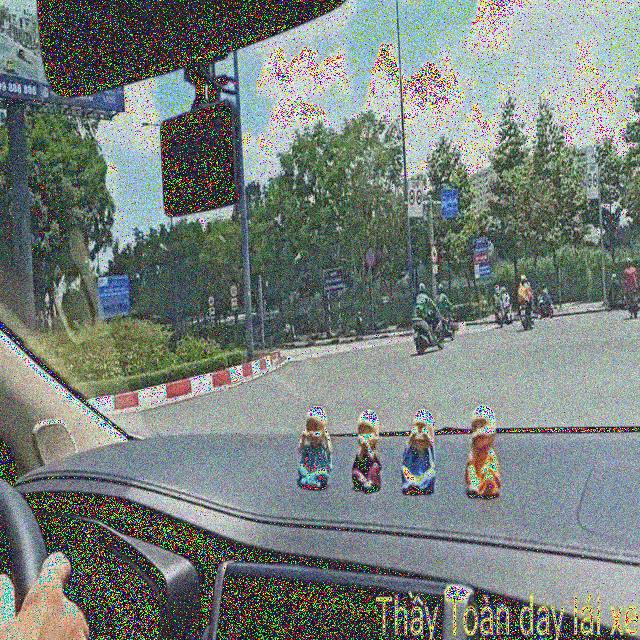Biển phụ: (230, 296, 237, 311), (209, 306, 215, 318), (432, 263, 438, 274)
Cấm các phương tiện hoạt động trong khung giờ cố định: (404, 172, 423, 220), (585, 159, 601, 201)
Cấm dừng - Cấm đỗ: (363, 244, 375, 266)
Cấm xe máy: (426, 240, 440, 261)
Giới hạn tốc độ: 60Km/h: (206, 290, 215, 306)
Giới hạn tốc độ: 80Km/h: (227, 281, 238, 298)
Khác: (96, 272, 131, 323), (470, 232, 495, 289), (319, 260, 350, 292)
Làn đường cho từng xe: (440, 185, 459, 216)
